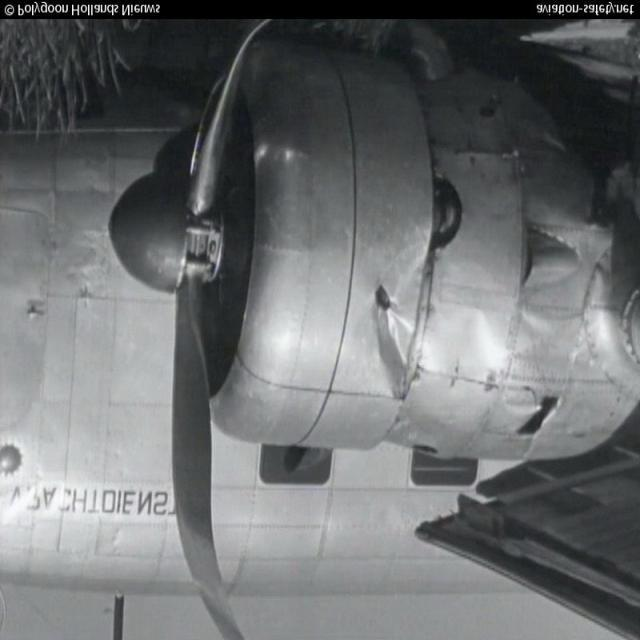dent: (364, 262, 417, 379)
